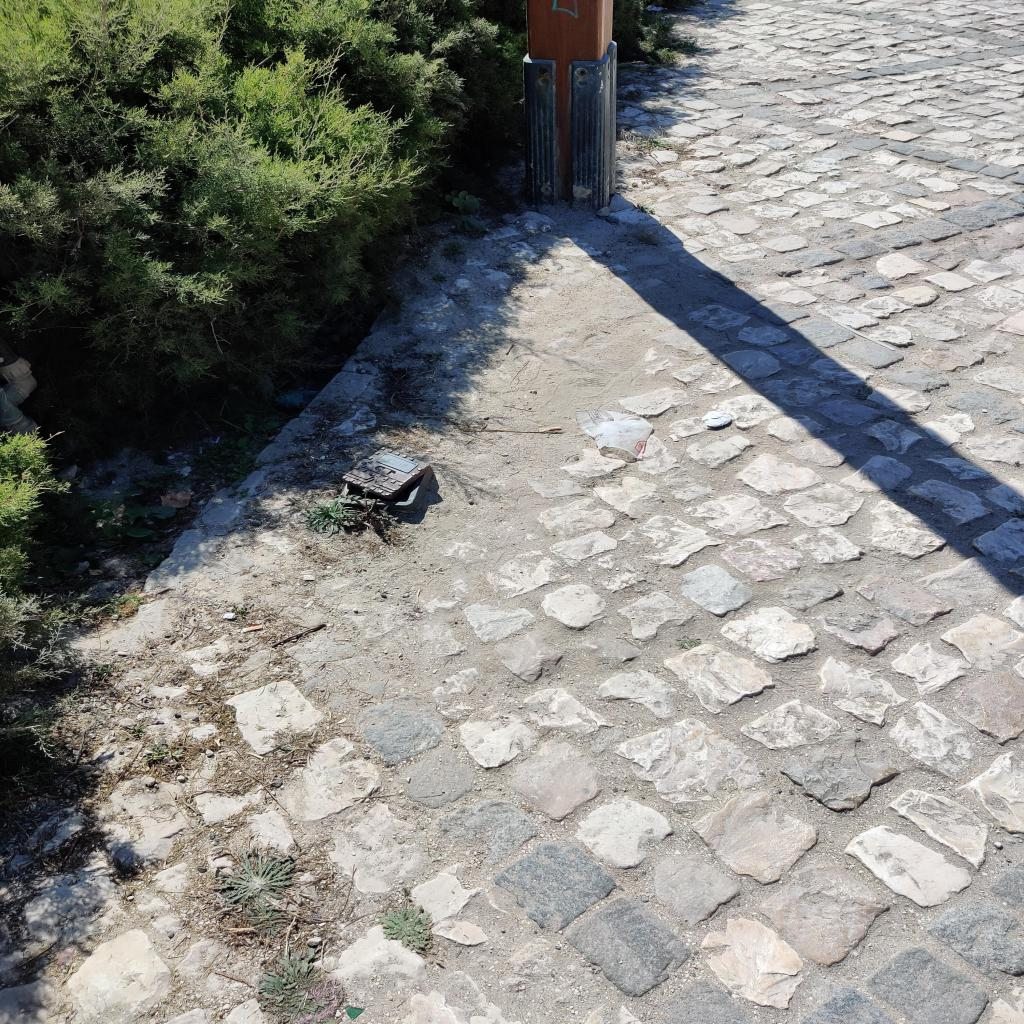Broken glass: (345, 1005, 367, 1021)
Cigarette: (242, 624, 262, 633), (540, 426, 562, 432)
Disposable plastic cup: (574, 410, 654, 458)
Unlabeled litter: (836, 322, 896, 350), (702, 410, 730, 428)
